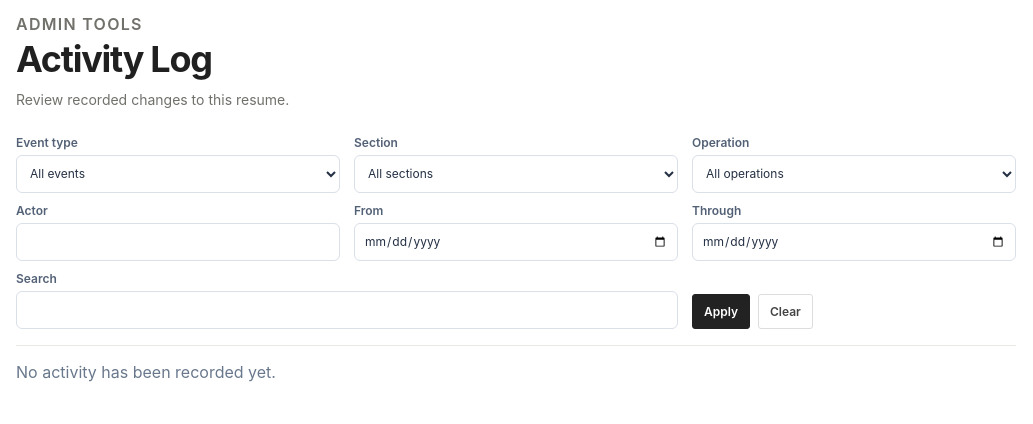
Test: Activity Log page › validates dates and converts Beijing calendar dates independently of browser timezone
Expected: the text "No activity has been recorded yet." is shown, [16,362,276,382]
Type "2026-10-03" into the date field labelled "From".
click(516, 242); type("2026-10-03")  # box [354,223,678,261]
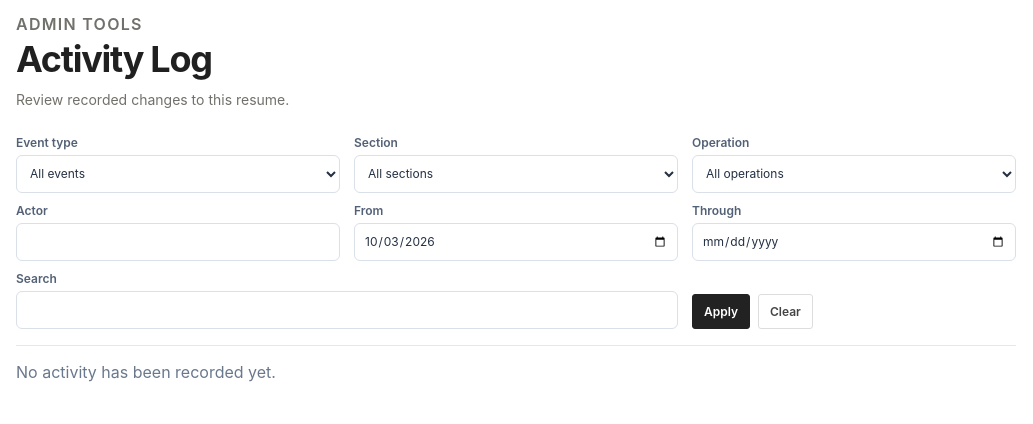
Type "2026-10-02" into the date field labelled "Through".
click(854, 242); type("2026-10-02")  # box [692,223,1016,261]
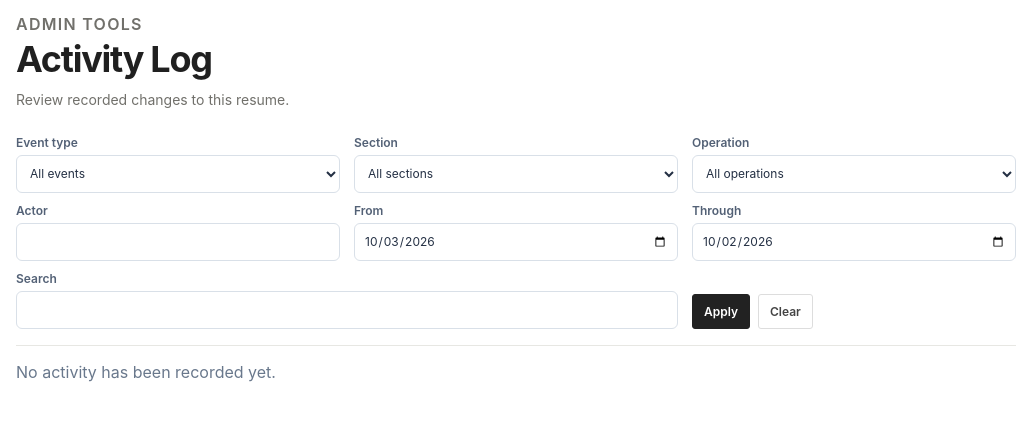
Click the button "Apply".
click(721, 311)  # box [692,294,750,329]
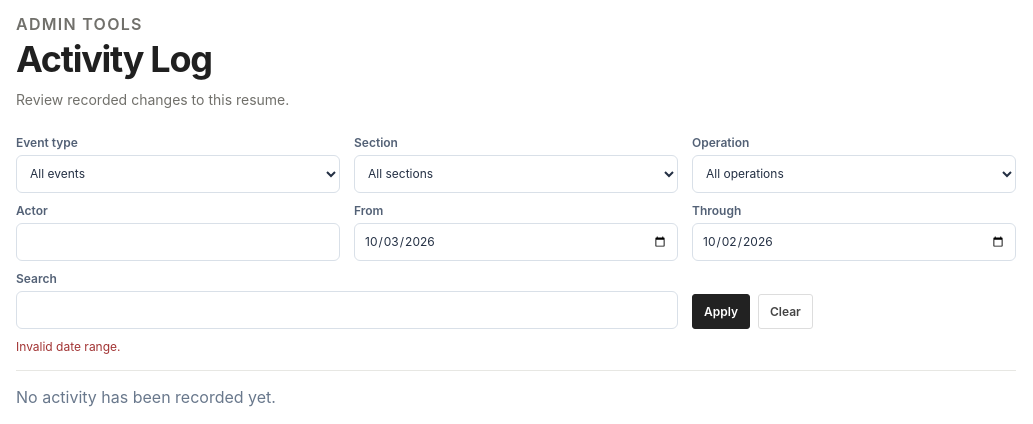
Expected: the message reads "Invalid date range.", [16,339,120,354]
